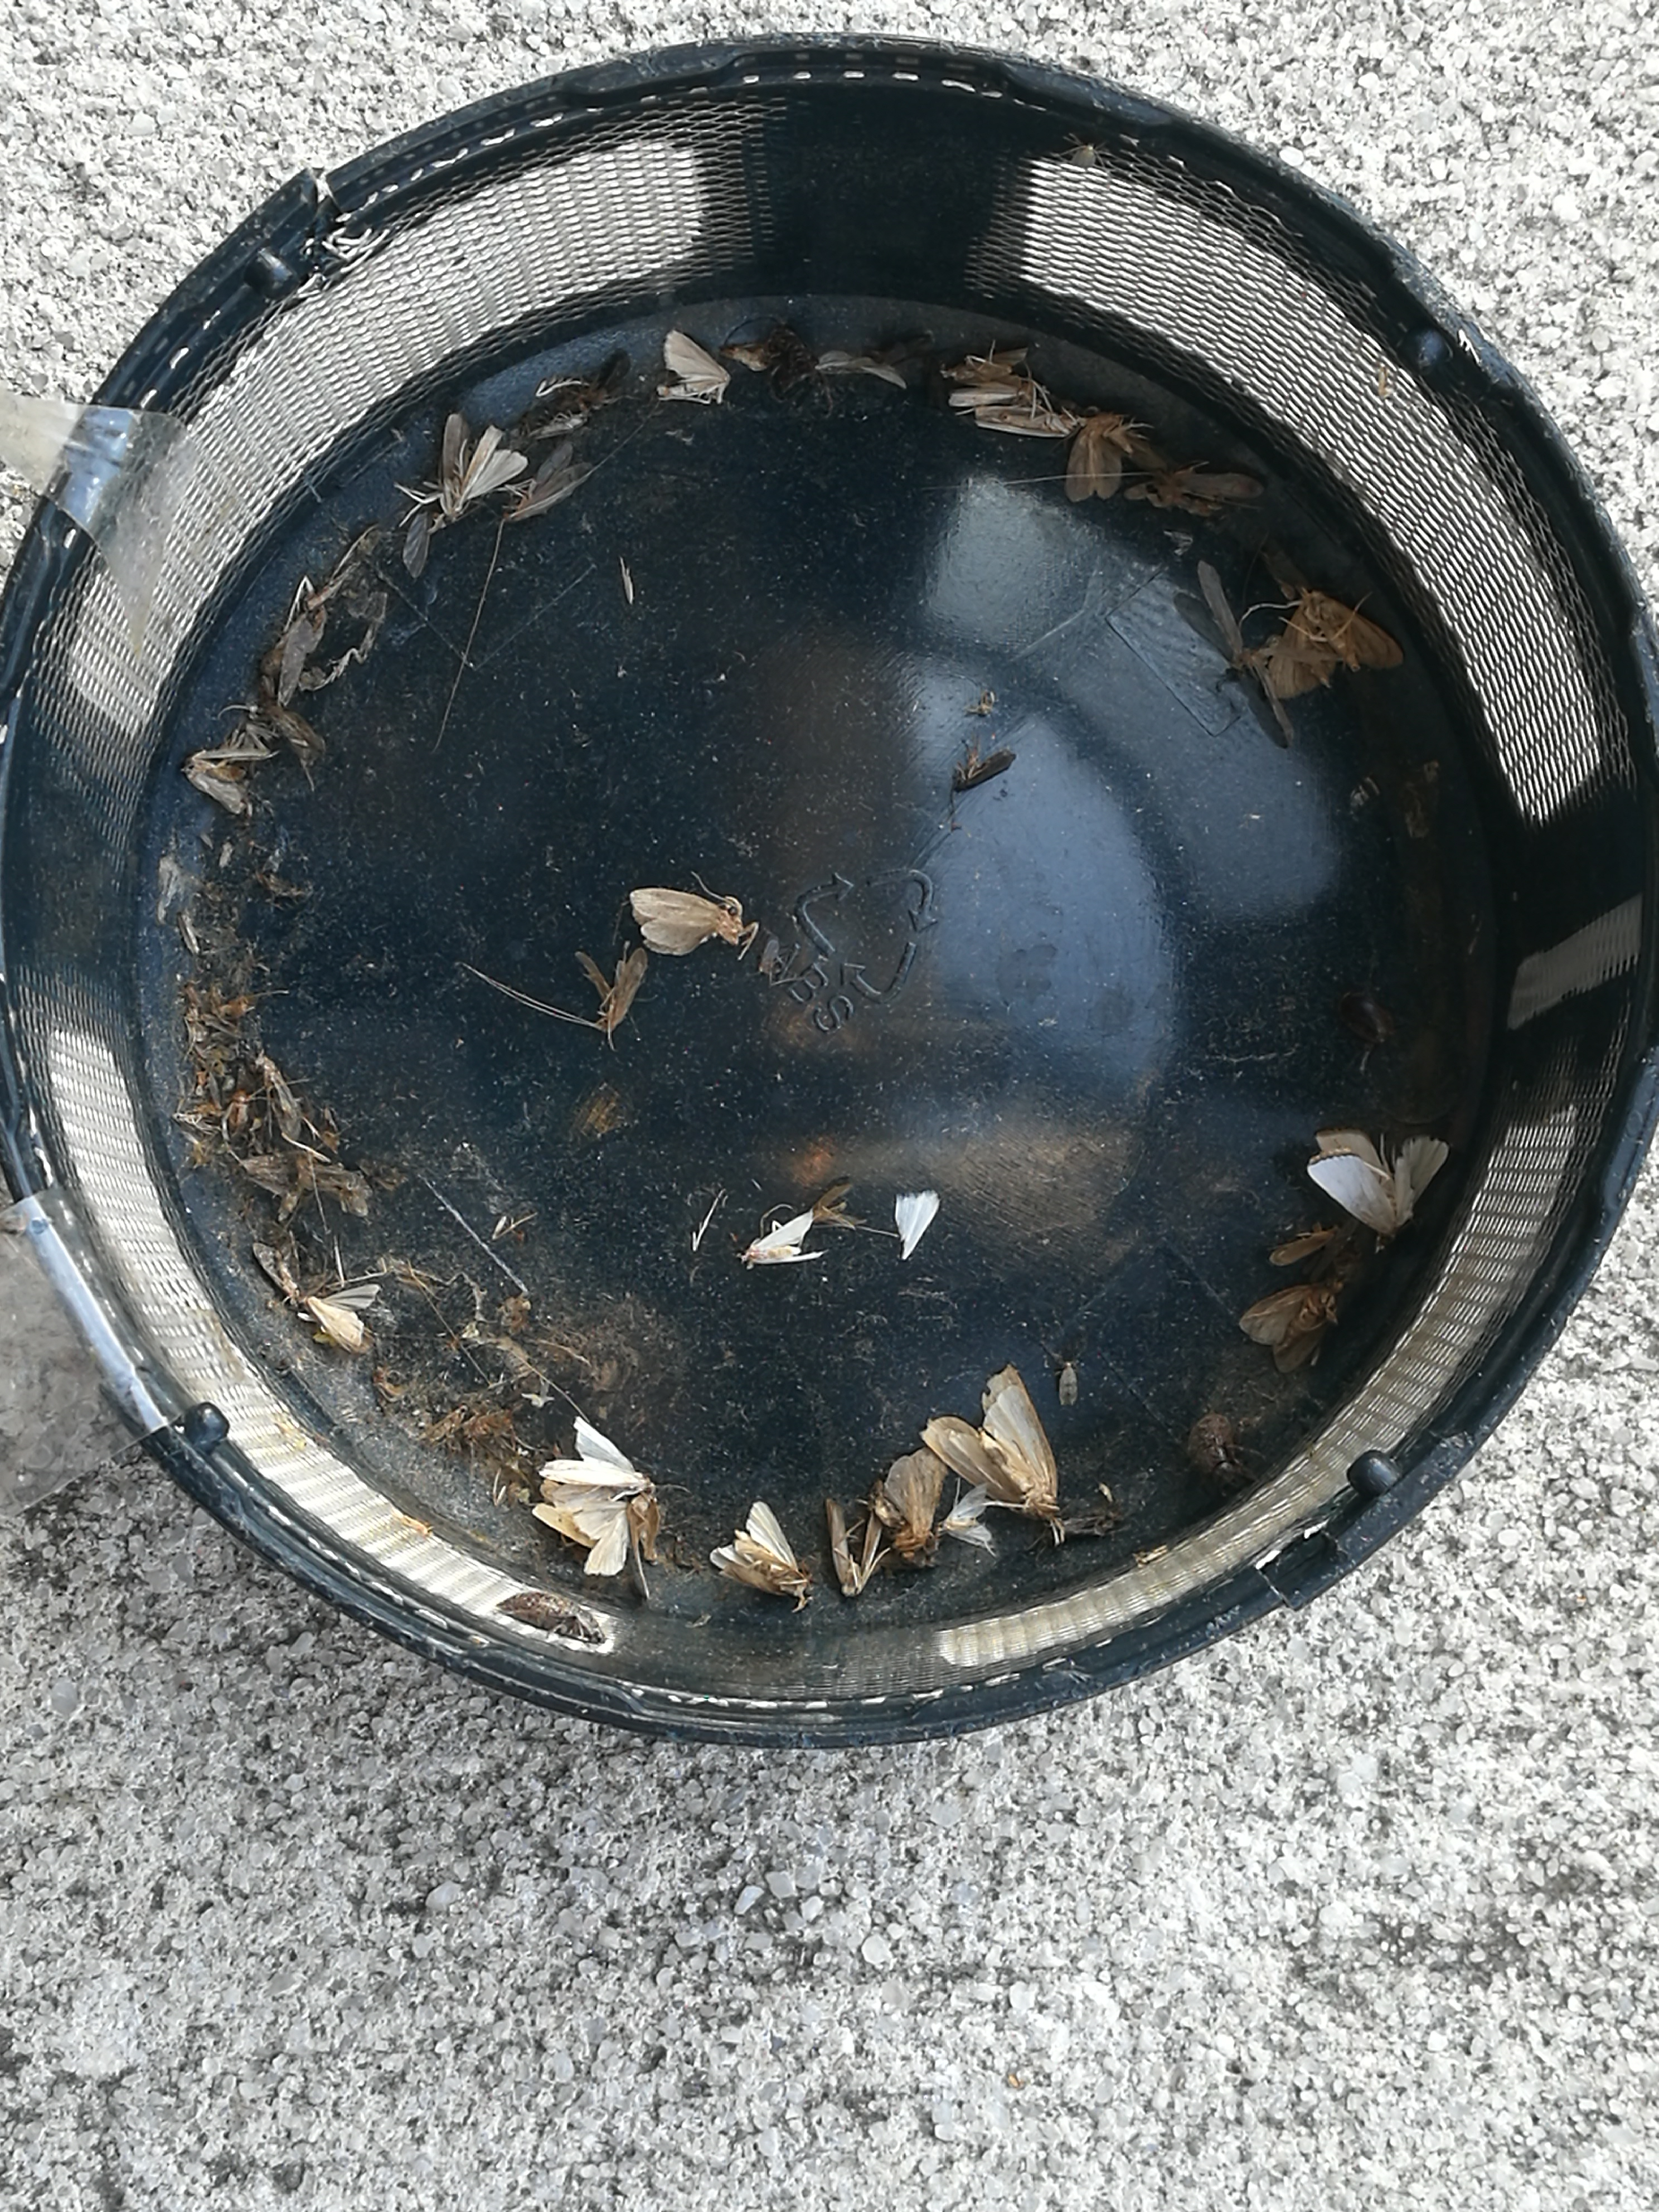beetle: (769, 327, 807, 402)
mosquito: (504, 442, 592, 524), (1127, 472, 1263, 503), (598, 949, 648, 1029), (256, 1054, 301, 1141), (261, 702, 326, 761), (972, 404, 1080, 437), (957, 754, 1012, 789), (948, 385, 1026, 404)
moth: (920, 1364, 1058, 1522), (1307, 1132, 1450, 1233), (1265, 594, 1403, 698), (1241, 1280, 1342, 1372), (540, 1418, 653, 1498), (711, 1503, 805, 1597), (1066, 413, 1168, 500), (441, 415, 528, 516), (629, 888, 741, 954), (556, 1489, 629, 1576), (657, 333, 730, 399), (308, 1285, 380, 1350), (746, 1211, 824, 1264)
